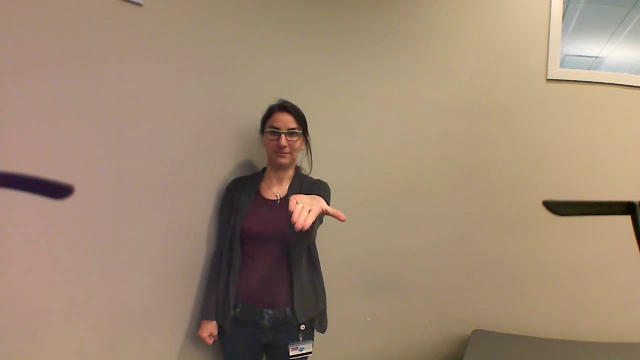land: (273, 182, 364, 242)
